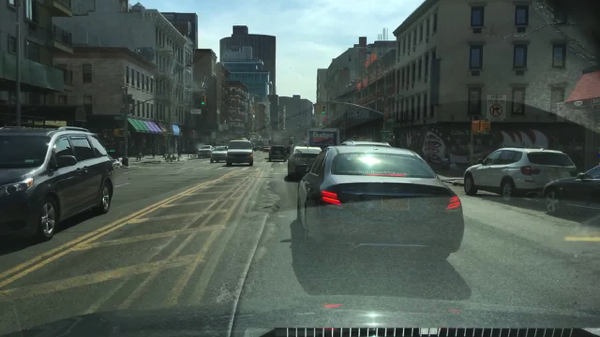car: (293, 145, 464, 264), (1, 125, 117, 243), (462, 146, 577, 205), (539, 163, 599, 216), (286, 146, 322, 179), (226, 139, 254, 167), (339, 140, 390, 148), (268, 144, 287, 163), (209, 145, 228, 163), (197, 145, 214, 160), (254, 144, 262, 151), (263, 146, 270, 153)
person: (135, 142, 143, 162), (150, 140, 157, 158), (176, 144, 184, 158), (159, 143, 167, 157)
traffic light: (480, 119, 493, 133), (111, 127, 124, 139), (471, 119, 479, 134), (200, 93, 207, 109), (320, 103, 326, 115)
traffic sign: (485, 95, 506, 122), (556, 102, 581, 122), (121, 93, 132, 105), (118, 108, 134, 114)
truck: (306, 128, 340, 148)
